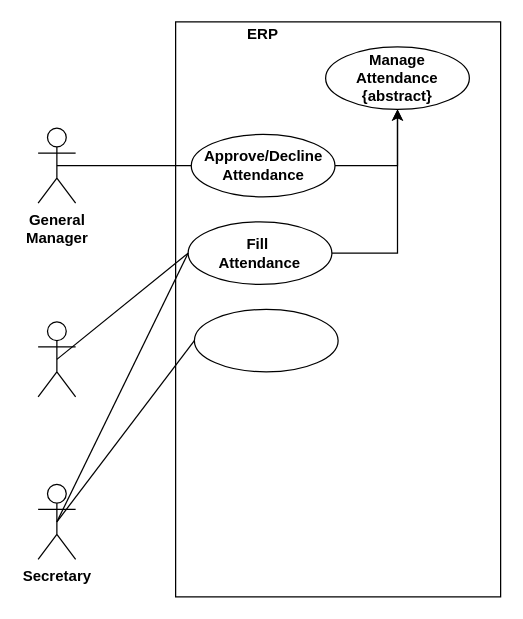
Image size: 523x619. Some labels were removed from this diagram. The shapes that lost their labels are listed below. From the top down, each one's centre as x and y in pixels, then its label:
At point (56, 359): "Employee".
At point (265, 340): "Edit Attendance".
